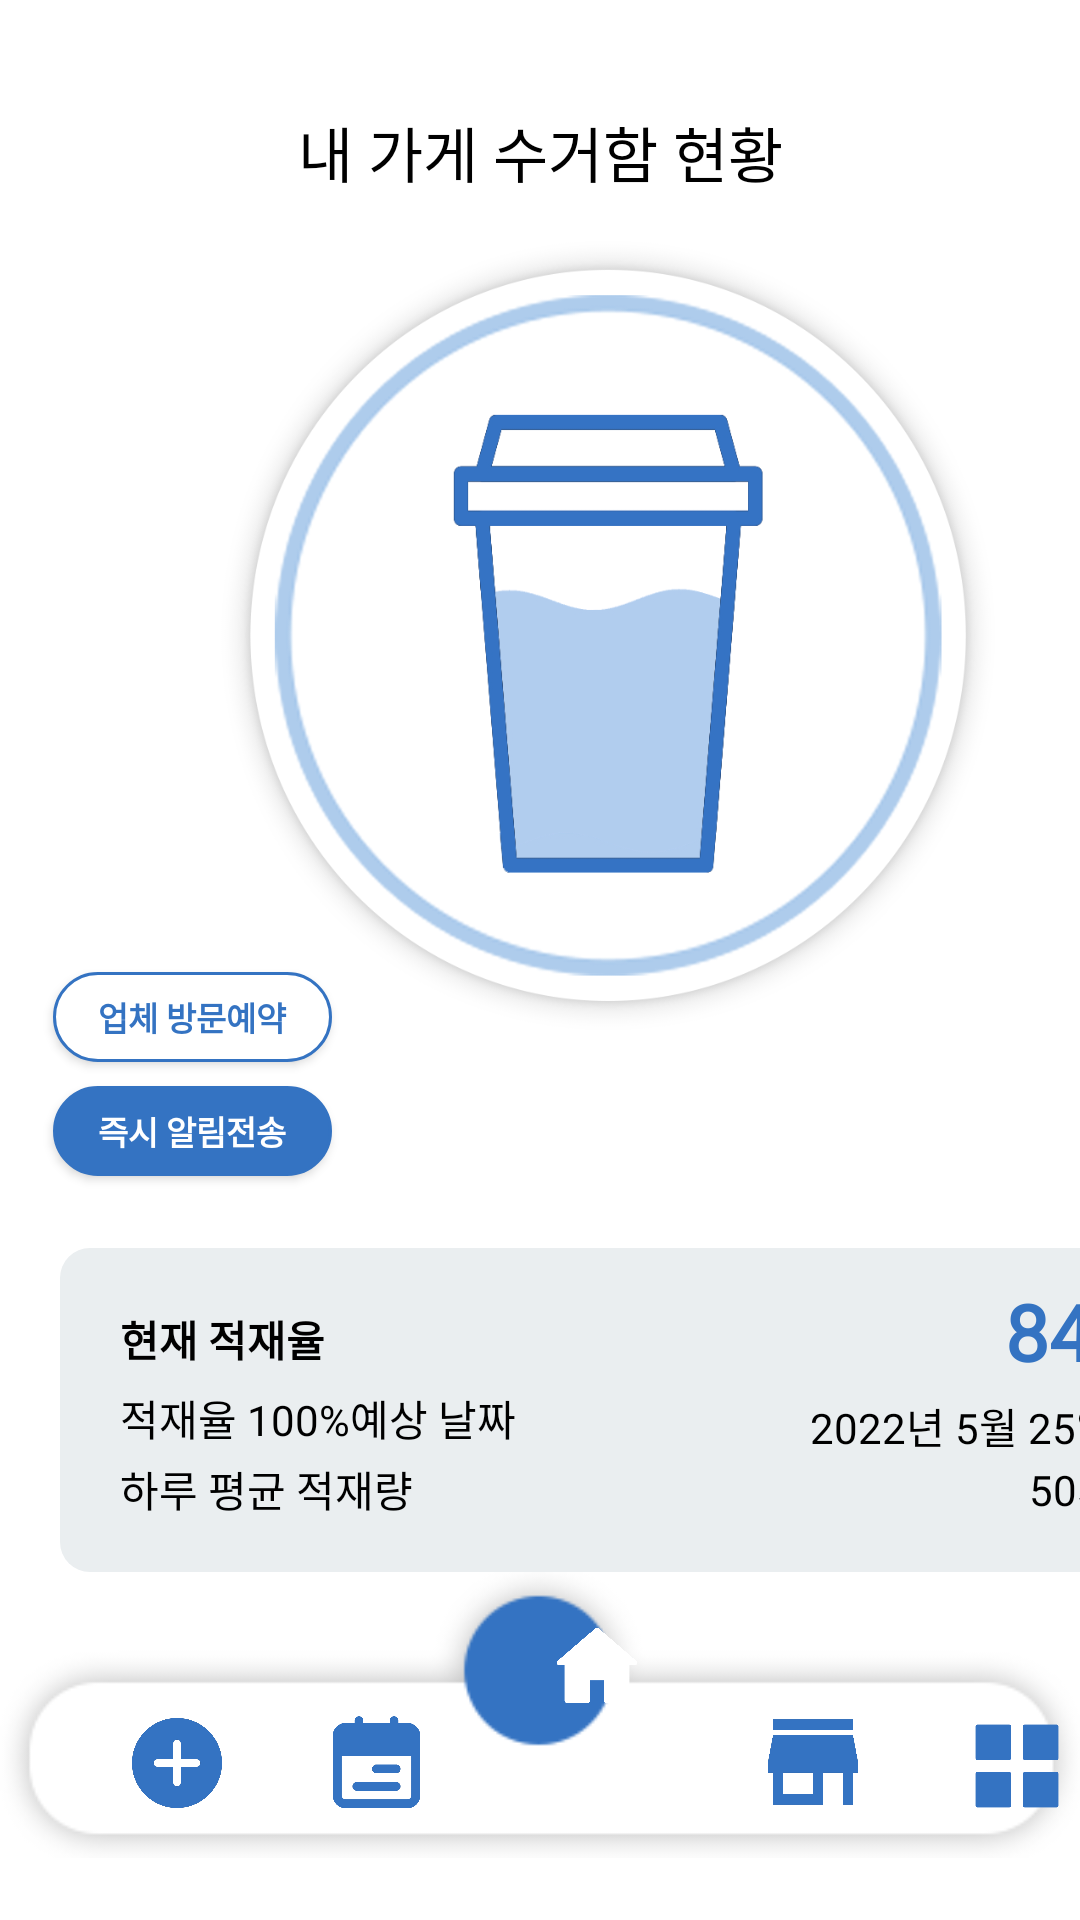

Icons on this 1080px x 1920px Android screen, each with the point to tap as (x=x, y=y):
calendaricon: (x=376, y=1762)
homeicon: (x=597, y=1665)
menuicon: (x=1017, y=1766)
plusicon: (x=177, y=1763)
storeicon: (x=813, y=1762)
